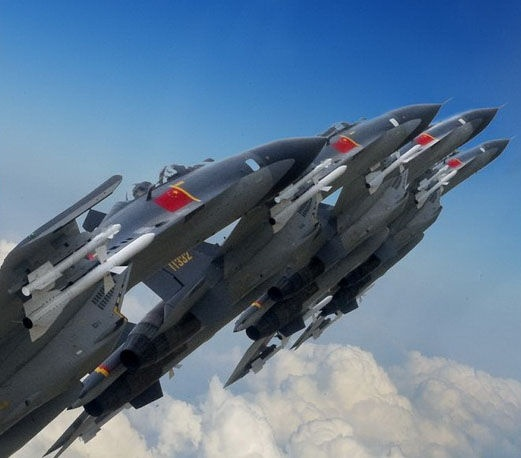airplane: (52, 86, 440, 411), (3, 133, 323, 411), (221, 135, 513, 390), (217, 98, 503, 334)
